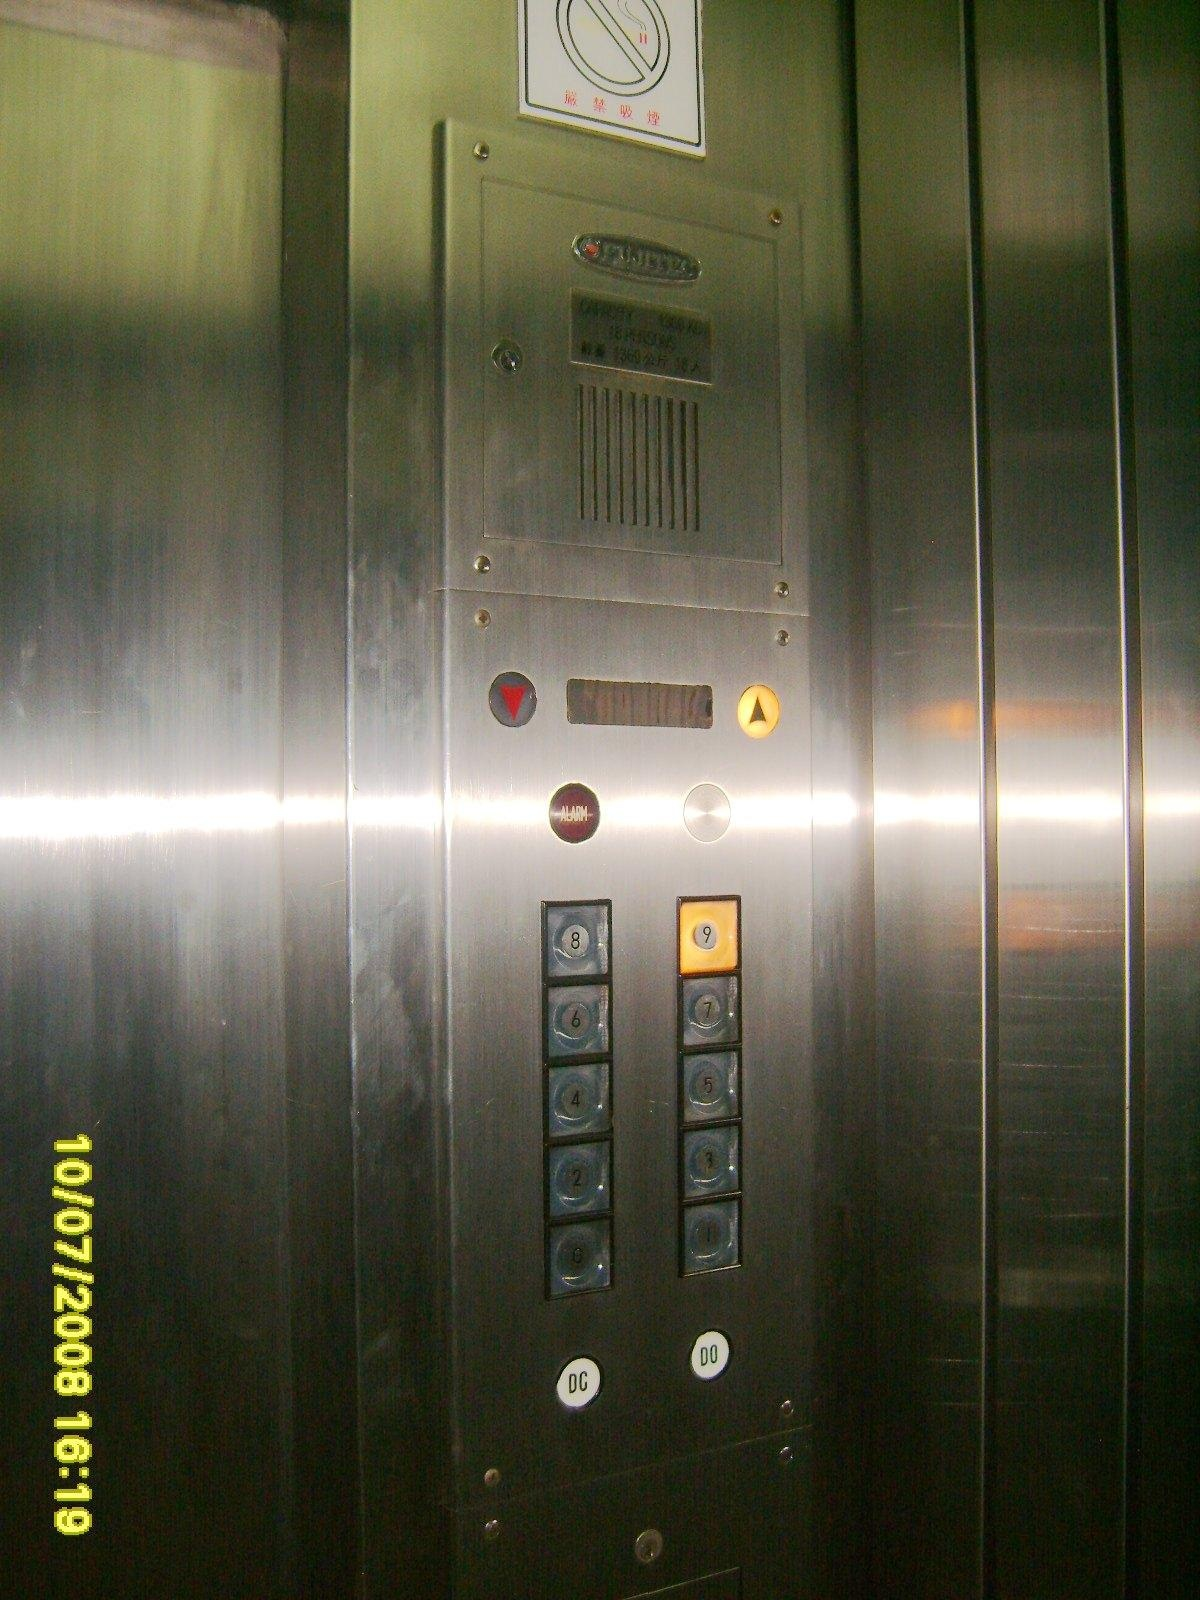0: (542, 1213, 616, 1299)
1: (676, 1196, 742, 1277)
2: (542, 1141, 614, 1223)
3: (676, 1123, 745, 1206)
4: (541, 1060, 614, 1146)
5: (677, 1046, 746, 1129)
6: (541, 981, 614, 1068)
7: (676, 973, 745, 1054)
8: (539, 896, 613, 984)
9: (676, 894, 742, 976)
DC: (555, 1356, 608, 1411)
DO: (688, 1328, 734, 1382)
down: (488, 671, 539, 729)
empty: (683, 784, 732, 843)
keyhole: (633, 1528, 666, 1563)
text: (550, 784, 603, 844)
up: (734, 683, 780, 740)
